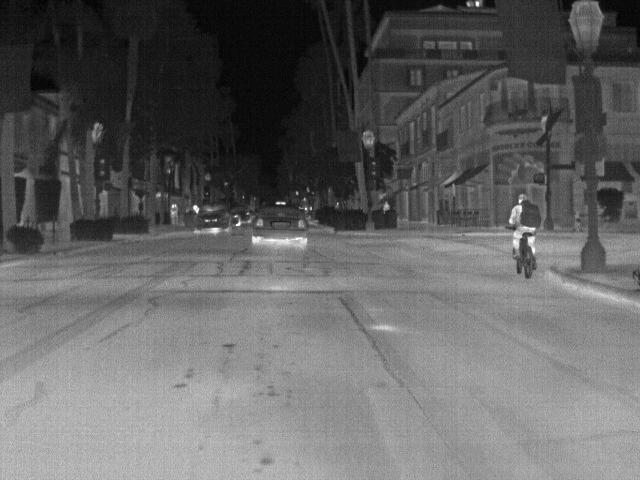car: (253, 204, 309, 246), (194, 204, 230, 232), (241, 211, 254, 224), (233, 214, 244, 226)
person: (507, 191, 534, 258), (169, 201, 177, 222)
